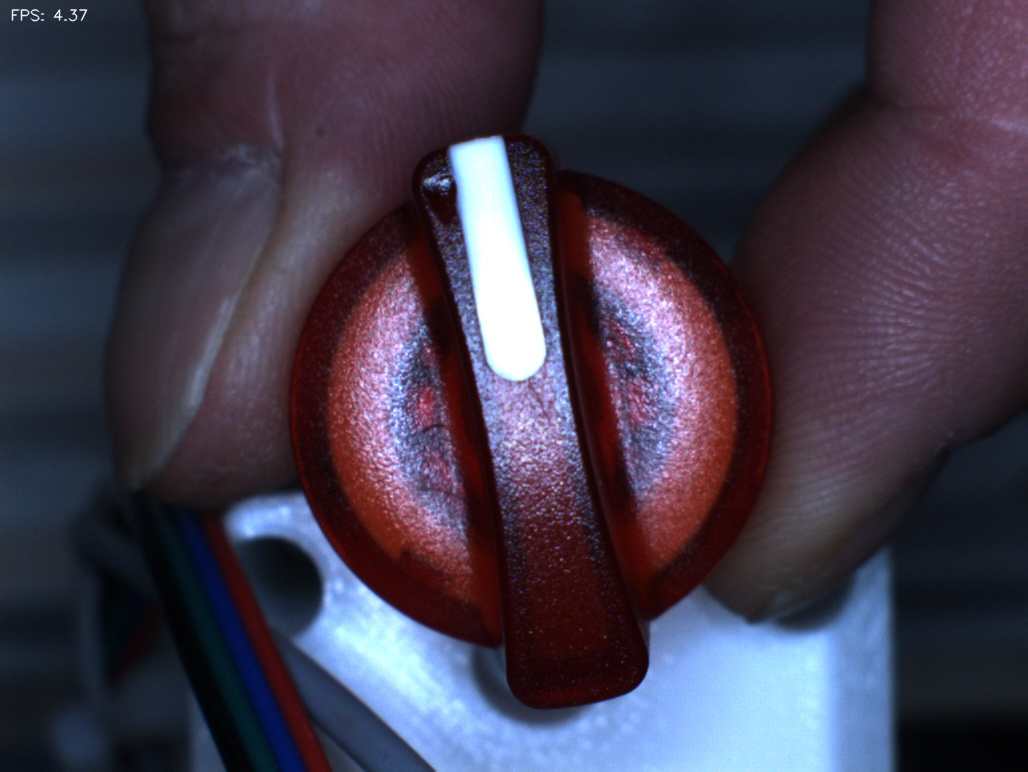Choc: (402, 156, 484, 238)
